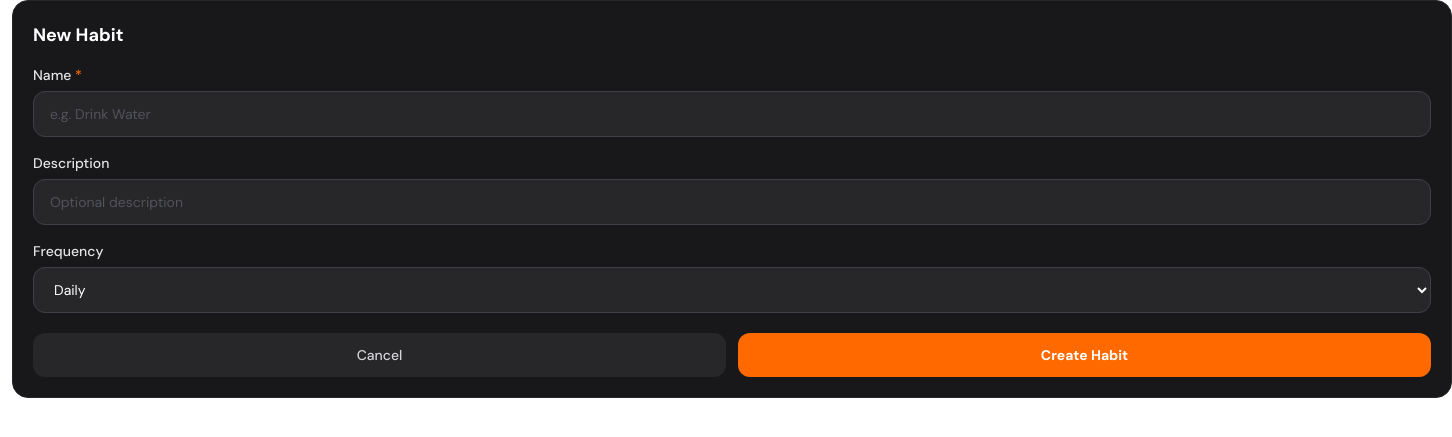
Test: habit form › creates a new habit and renders it in the list
Type "Drink Water" into the field with test id "habit-name-input". click: (732,114)
box: [33,91,1431,137]
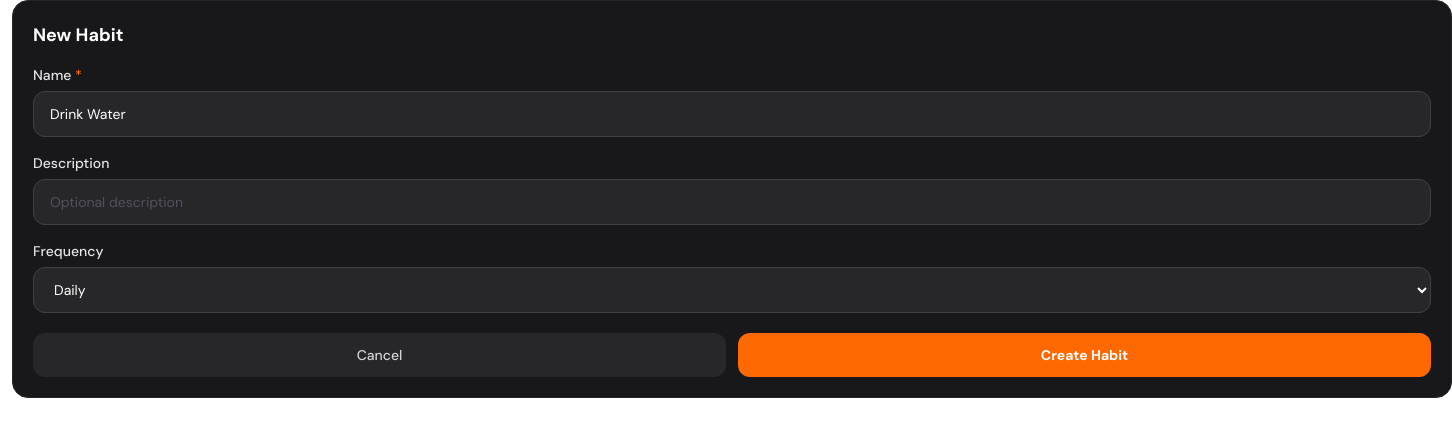
Click the button with test id "habit-save-button". click: (1084,355)
box: [738,333,1431,377]
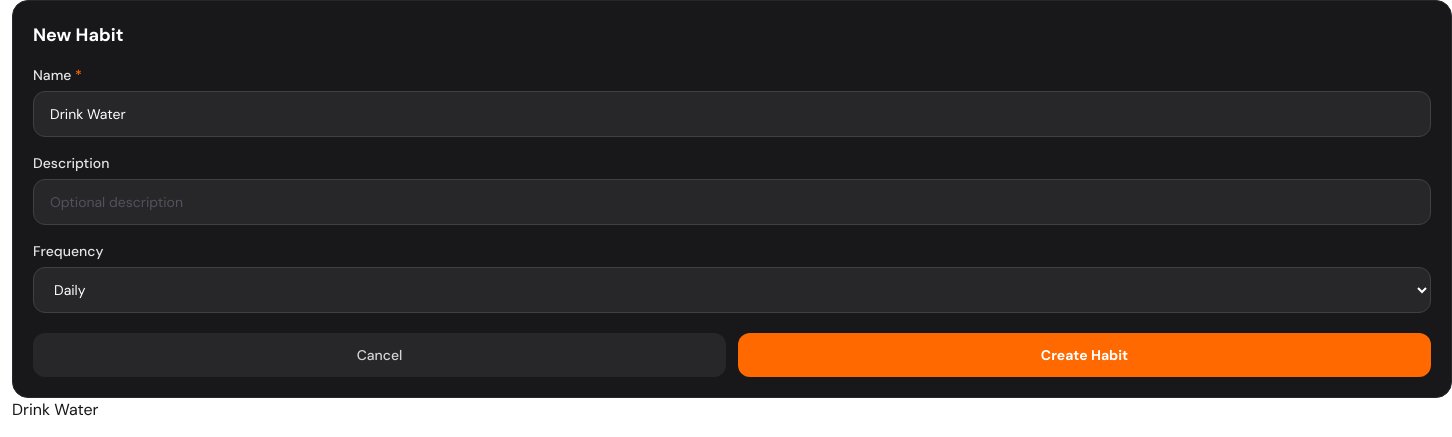
expect the text "Drink Water" is shown: met, box [12,399,98,420]
